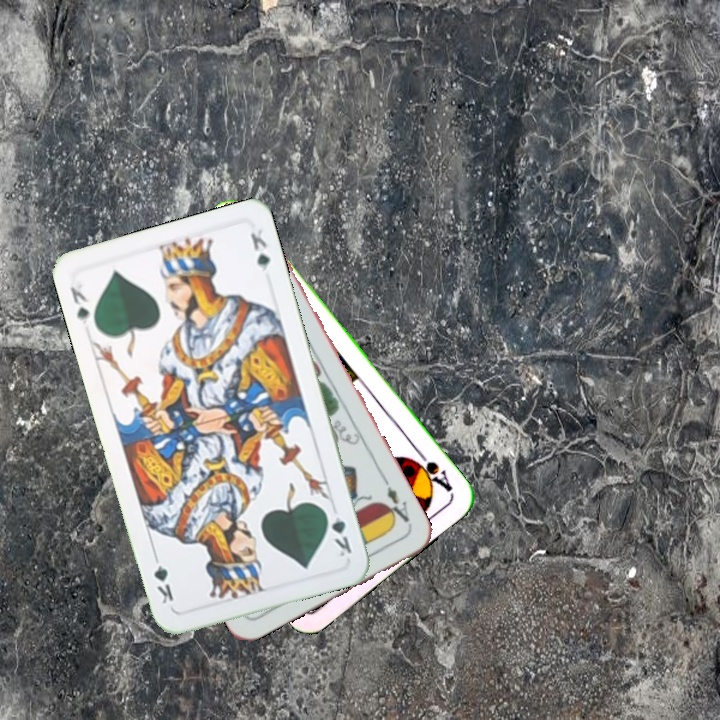EA: (380, 475, 415, 530)
GK: (320, 505, 355, 559), (66, 283, 92, 327)
SA: (405, 446, 455, 495)
